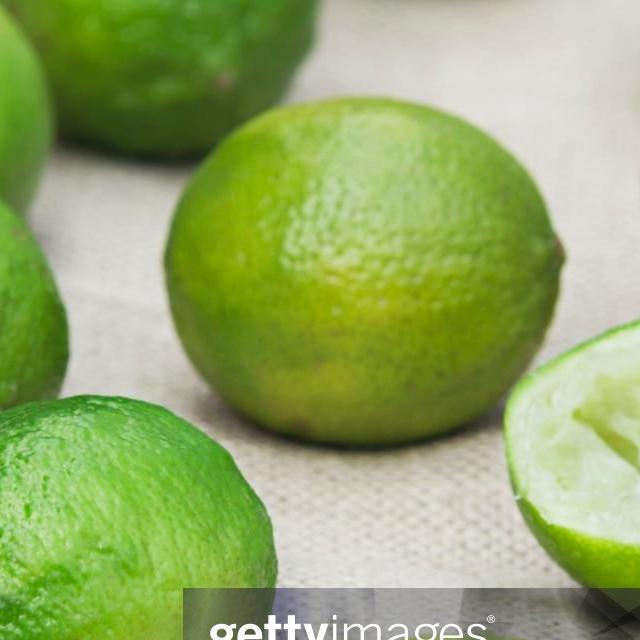lime: (158, 97, 568, 456)
